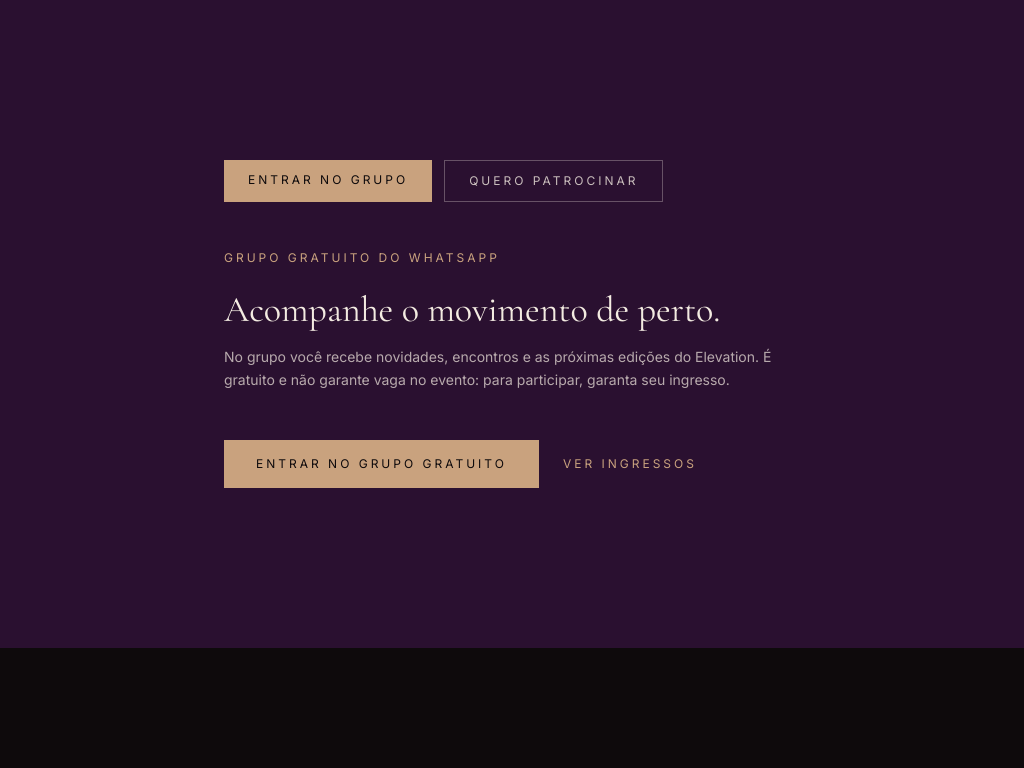
Test case: Interesse › abre o grupo diretamente sem pedir dados pessoais
Click the button "Quero patrocinar" at {"x": 554, "y": 181}, box [444,160,663,202]
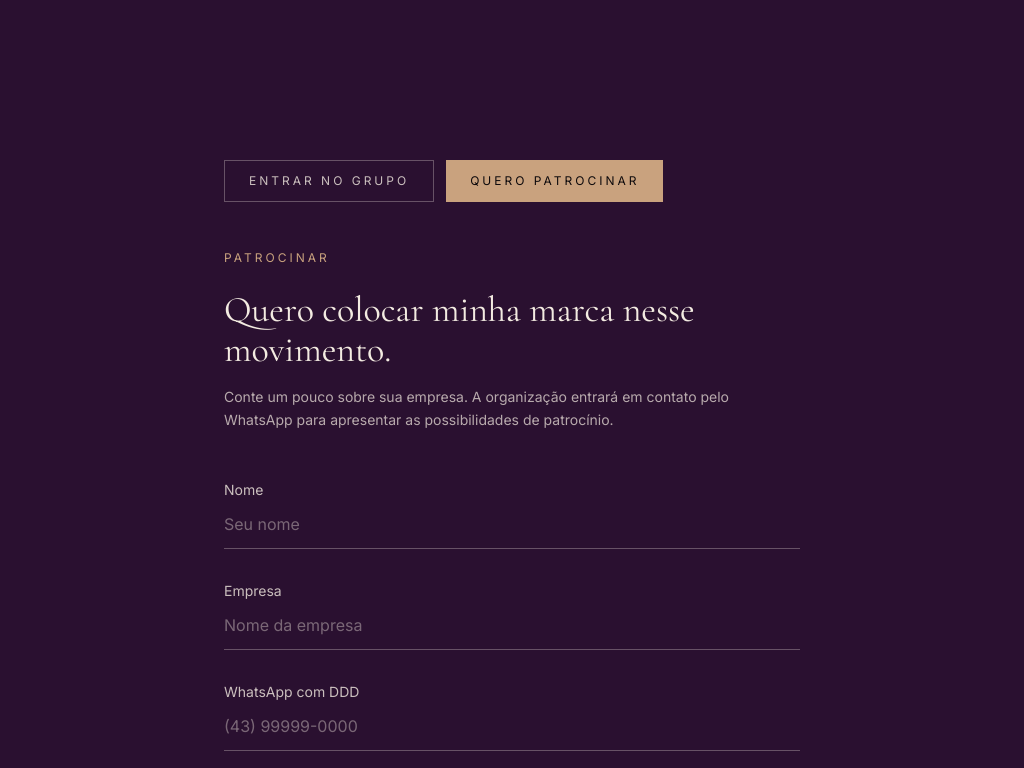
Expected: the field labelled "Empresa" is shown, [224,600,800,650]
